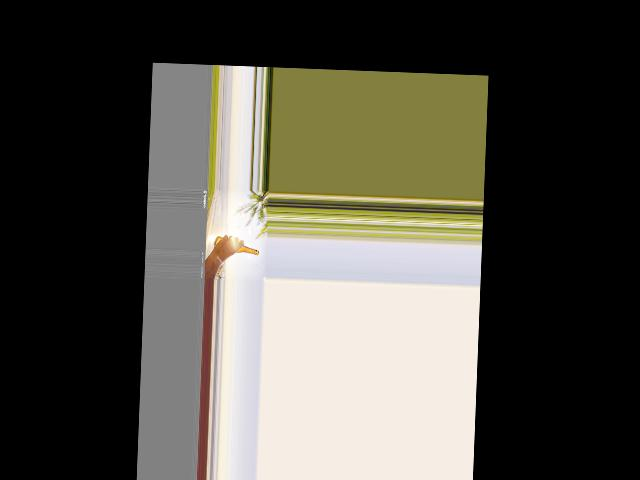beer: (213, 236, 259, 255)
